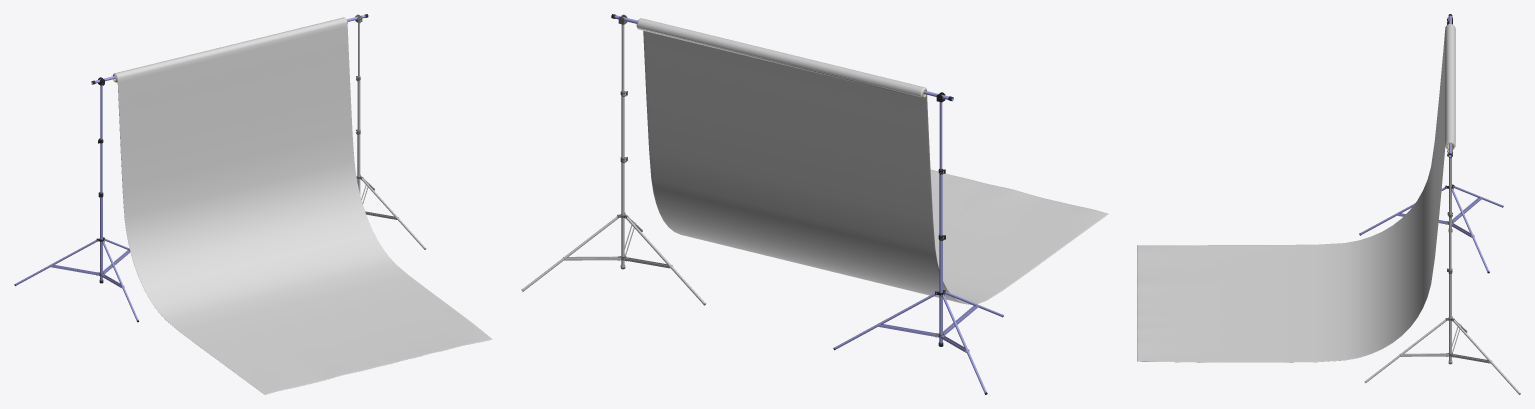
The model's file is Photo Screen.fbx.
The picture shows the model from 3 angles, left to right: view 1: azimuth 30°, elevation 25°; view 2: azimuth 150°, elevation 25°; view 3: azimuth 270°, elevation 25°; orthographic projection. The views are drawn at different scales.
Parts seen in each view (by area): view 1: hohlkehle.001|Circle.225|Dupli|62; view 2: hohlkehle.001|Circle.225|Dupli|62, hohlkehle.001|Circle.224|Dupli|63; view 3: hohlkehle.001|Circle.225|Dupli|62.
Boxes of the visible parts, box(x1,y1,x2,y2) form: hohlkehle.001|Circle.225|Dupli|62: box(114, 17, 492, 394); hohlkehle.001|Circle.225|Dupli|62: box(637, 18, 1108, 304); hohlkehle.001|Circle.224|Dupli|63: box(636, 20, 926, 98); hohlkehle.001|Circle.225|Dupli|62: box(1137, 24, 1455, 362).
Size of the model in its own units: 4.1 by 2.25 by 3.53.
